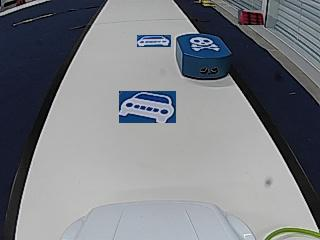danger: (189, 35, 218, 51)
